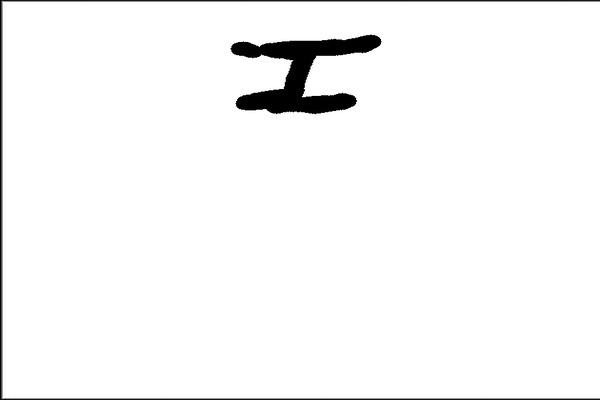i: (218, 26, 387, 120)
